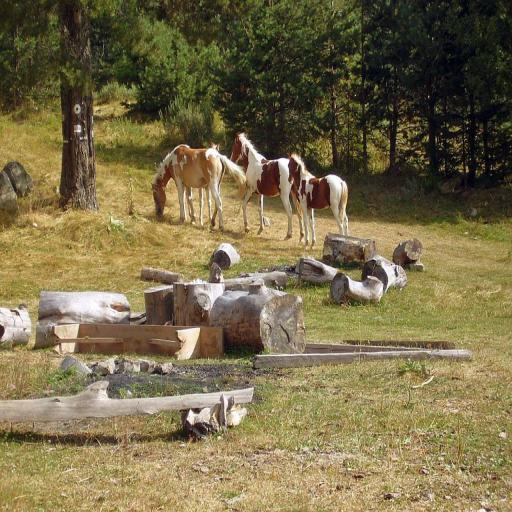horse: (151, 144, 246, 234), (228, 130, 304, 240), (288, 150, 350, 252)
